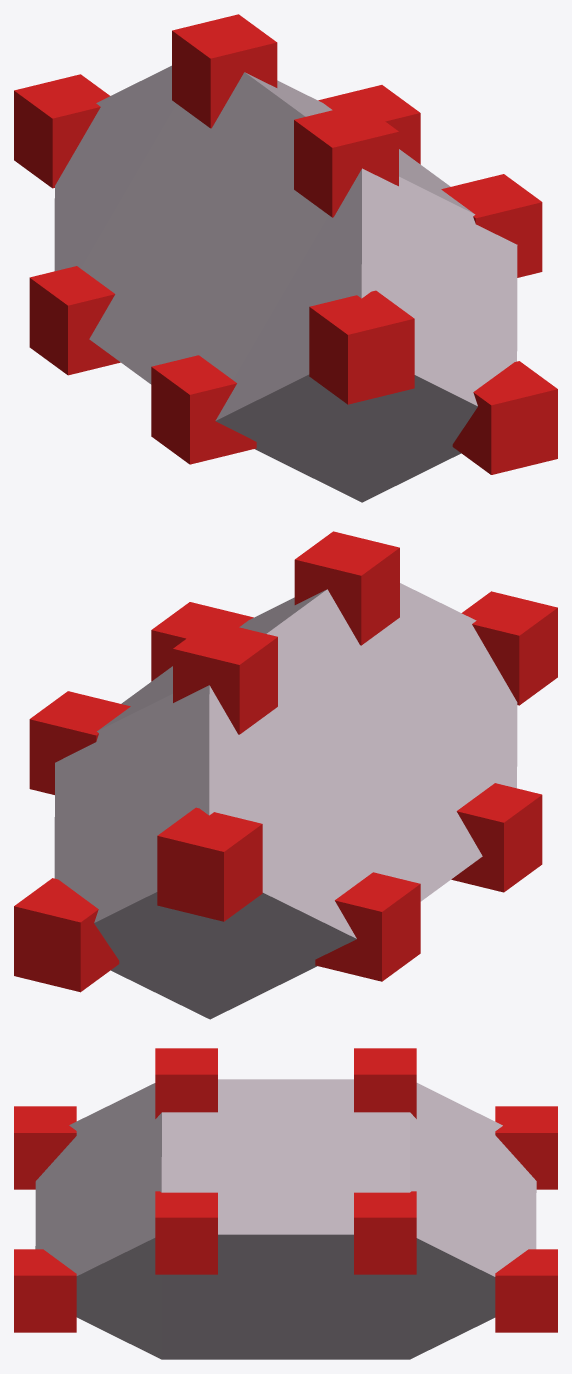
File: stack-aluminium-oxide.glb
The picture shows the model from 3 angles, top to bottom: view 1: azimuth 30°, elevation 25°; view 2: azimuth 150°, elevation 25°; view 3: azimuth 270°, elevation 25°; orthographic projection. The views are drawn at different scales.
Visible parts, largest first — view 1: Cube.030; view 2: Cube.030; view 3: Cube.030.
Boxes of the visible parts, x1,y1,x2,y2 form: Cube.030: (14,14,557,502); Cube.030: (14,531,557,1019); Cube.030: (14,1048,557,1359).
Size of the model in its own units: 2.67 by 2.65 by 4.38.
1 material, 1 textured.
